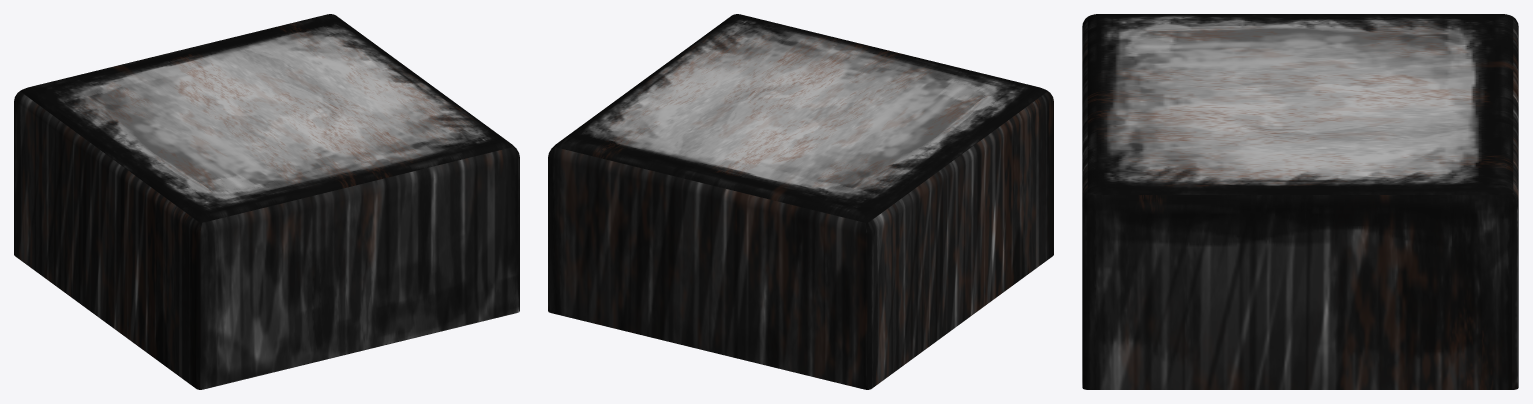
Rendered from FloorTile_0.fbx.
The picture shows the model from 3 angles, left to right: view 1: azimuth 30°, elevation 25°; view 2: azimuth 150°, elevation 25°; view 3: azimuth 270°, elevation 25°; orthographic projection. The views are drawn at different scales.
Visible parts, largest first — view 1: Cube.022; view 2: Cube.022; view 3: Cube.022.
Part boxes in pixels (box(x1,y1,x2,y2)): Cube.022: box(14, 14, 519, 389); Cube.022: box(548, 14, 1053, 389); Cube.022: box(1082, 14, 1518, 389).
Bounding box in the file's own units: 200 × 100 × 200.
1 material, 1 textured.
